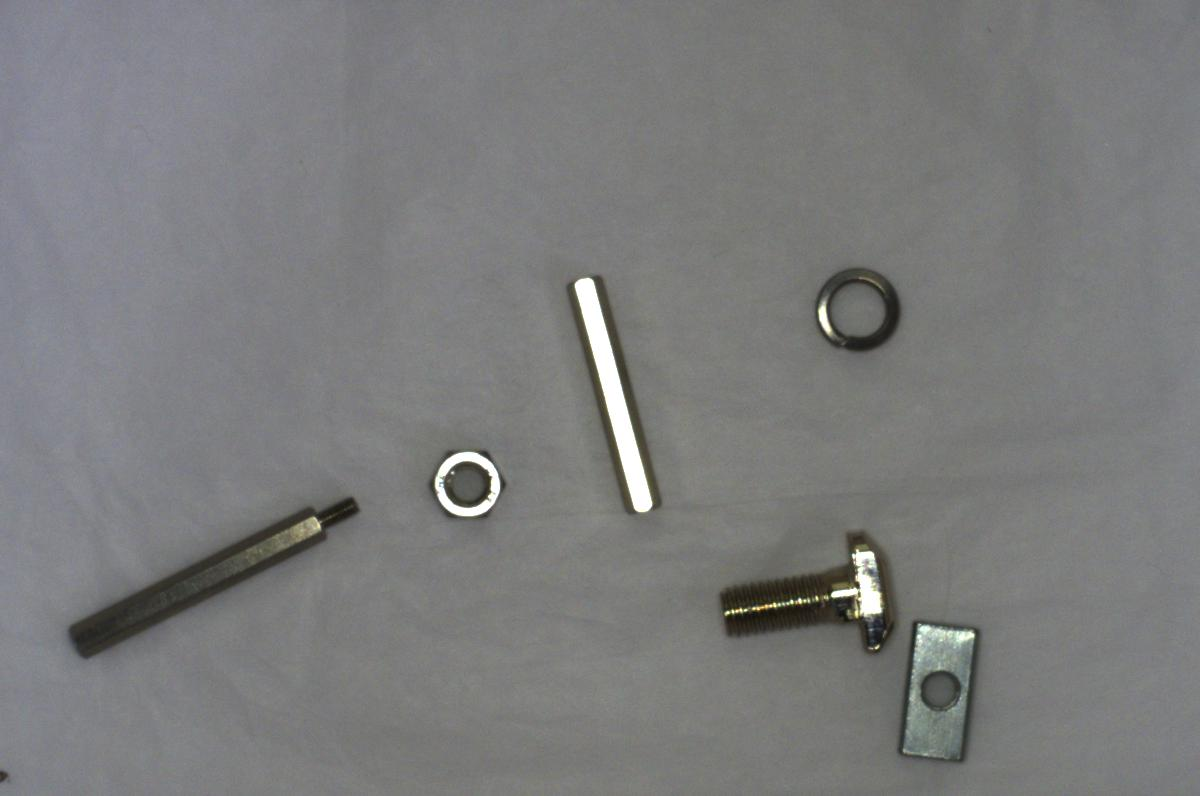Double hexagonal column: (566, 263, 667, 527)
Hexagon nut: (421, 441, 517, 523)
Hexagonal steel column: (57, 483, 368, 662)
Rectangular nut: (899, 613, 987, 765)
Spring washer: (808, 256, 907, 360)
T-shaped screw: (704, 528, 901, 660)
